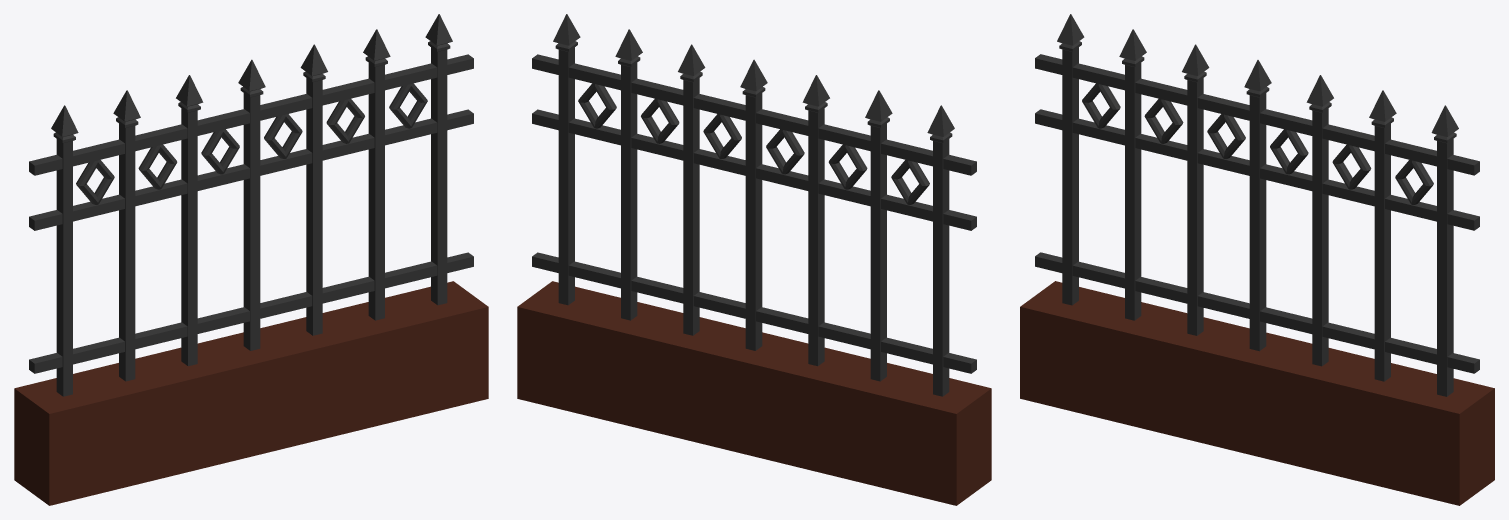
File: Wrought Iron Fence.glb
3 views of the same model, side by side, from view 1: azimuth 30°, elevation 25°; view 2: azimuth 150°, elevation 25°; view 3: azimuth 330°, elevation 25° (orthographic).
Visible parts, largest first — view 1: Wrought Iron Fence; view 2: Wrought Iron Fence; view 3: Wrought Iron Fence.
Boxes of the visible parts, bbox=[...] form: Wrought Iron Fence: bbox=[14, 14, 488, 505]; Wrought Iron Fence: bbox=[517, 14, 991, 505]; Wrought Iron Fence: bbox=[1020, 14, 1494, 505].
Bounding box in the file's own units: 2.06 × 1.7 × 0.2852.
